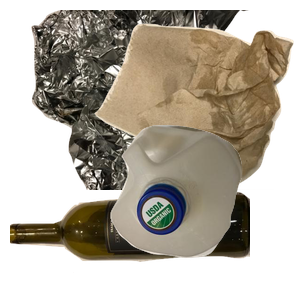glass: (10, 189, 250, 300)
metal: (29, 10, 269, 190)
plastic: (108, 123, 300, 300)
trash: (92, 21, 300, 201)
